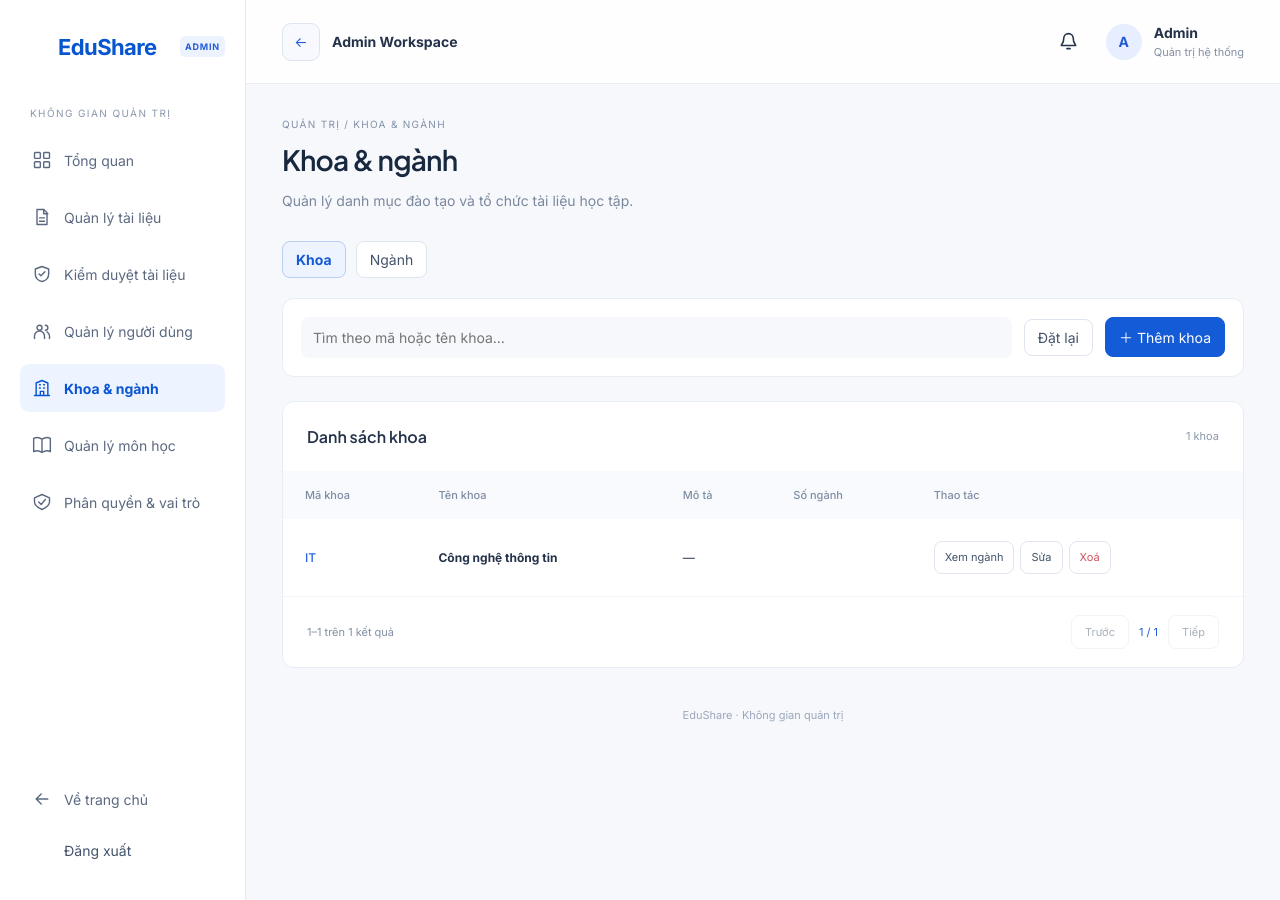
Test: Admin workspace › shows delete conflicts and keeps the confirmation open
The image size is (1280, 900).
What coordinates should you click on to do the following:
click the button "Xoá"
I would click on:
 (1090, 558)
Its box is [1068, 541, 1111, 574].
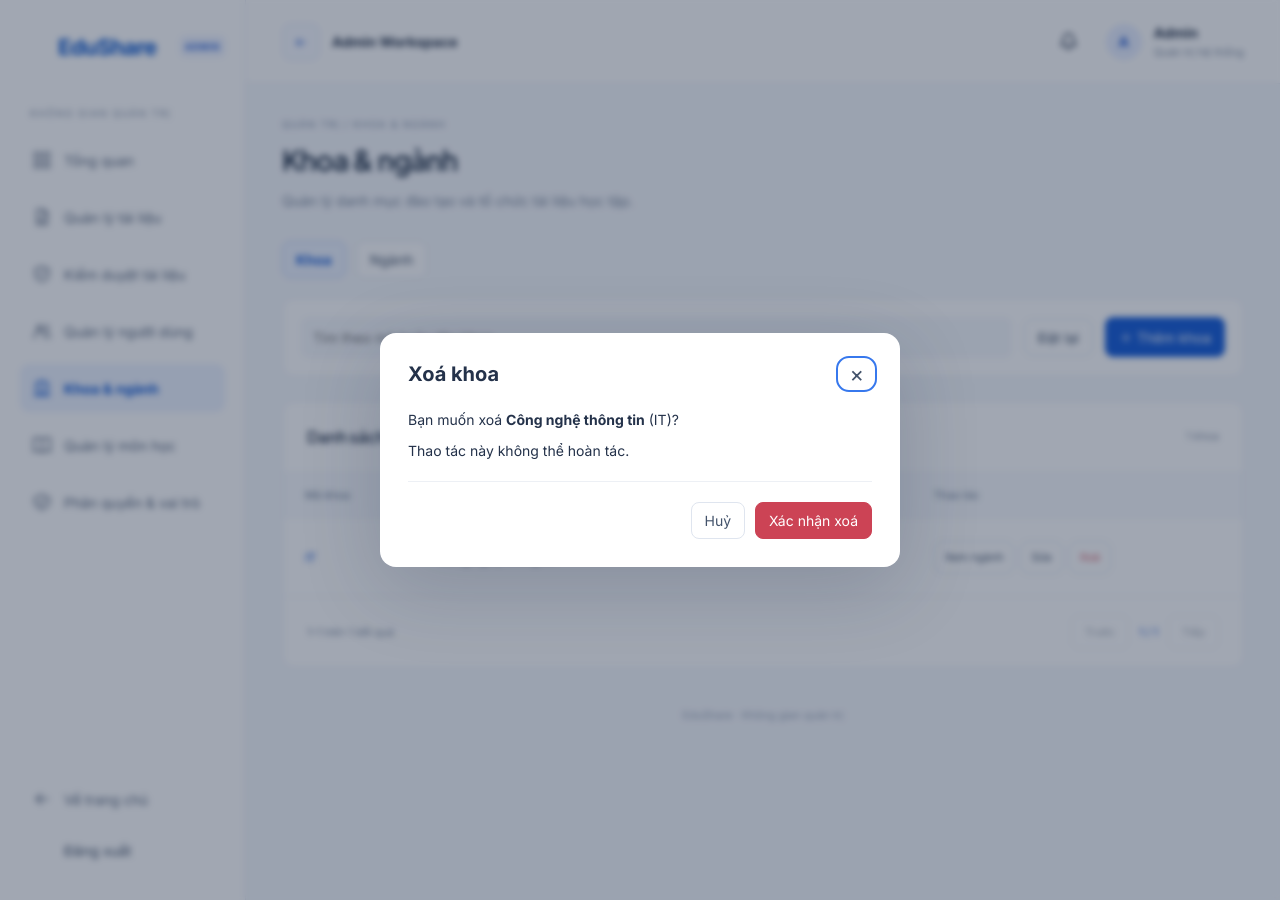
What coordinates should you click on to do the following:
click the button "Xác nhận xoá"
I would click on:
 (814, 520)
Its box is [755, 502, 872, 539].
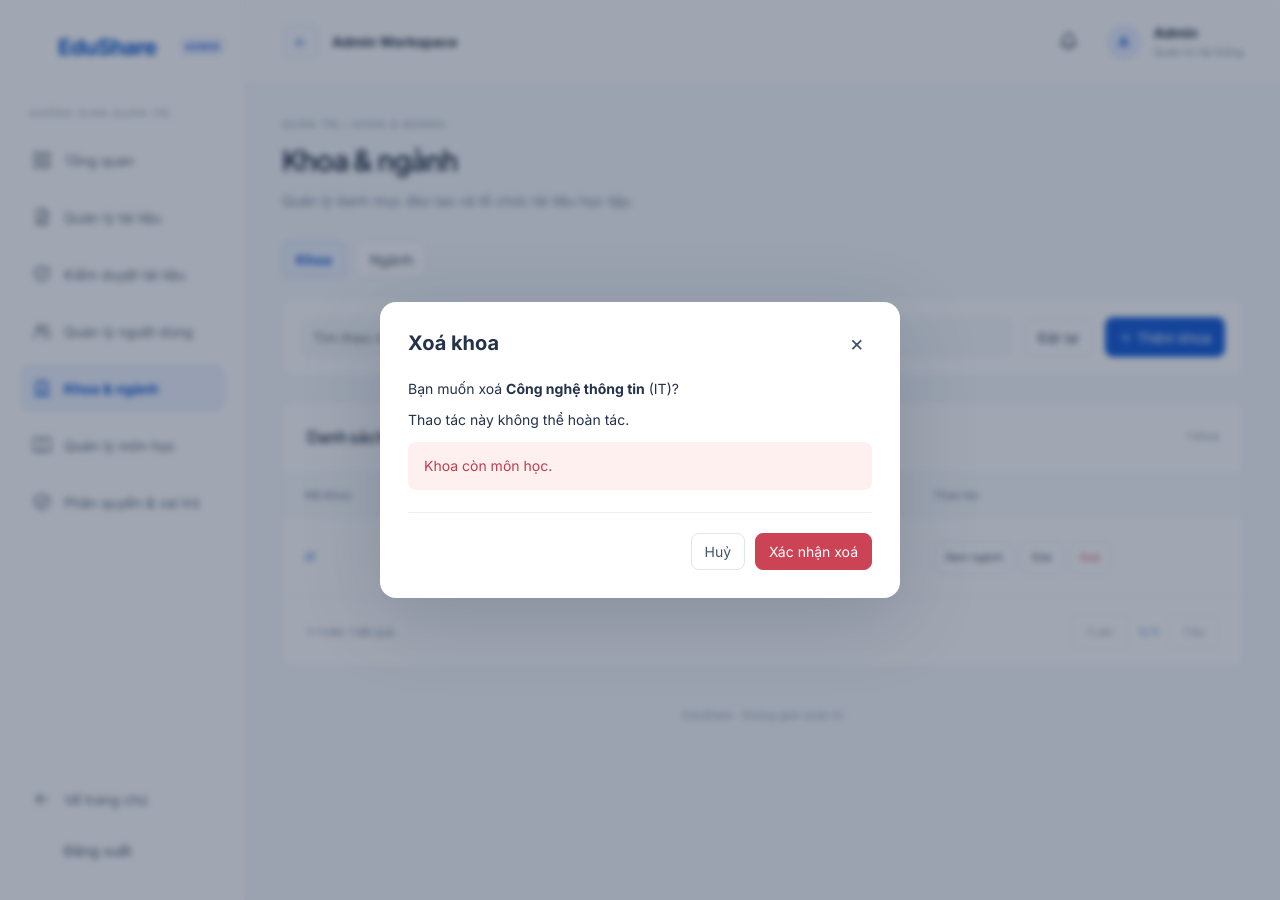
Expected: the dialog is shown, [380, 302, 900, 598]
Expected: the message reads "Khoa còn môn học.", [424, 457, 552, 474]
